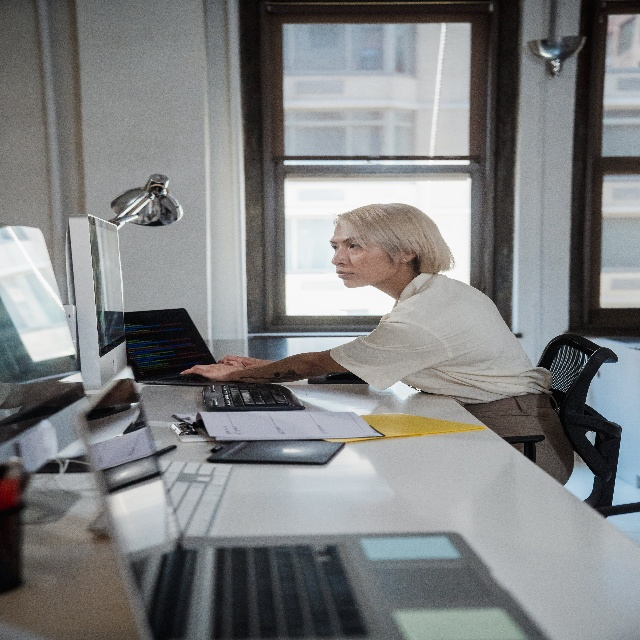Sin_guantes: (180, 360, 246, 382), (217, 354, 260, 368)
